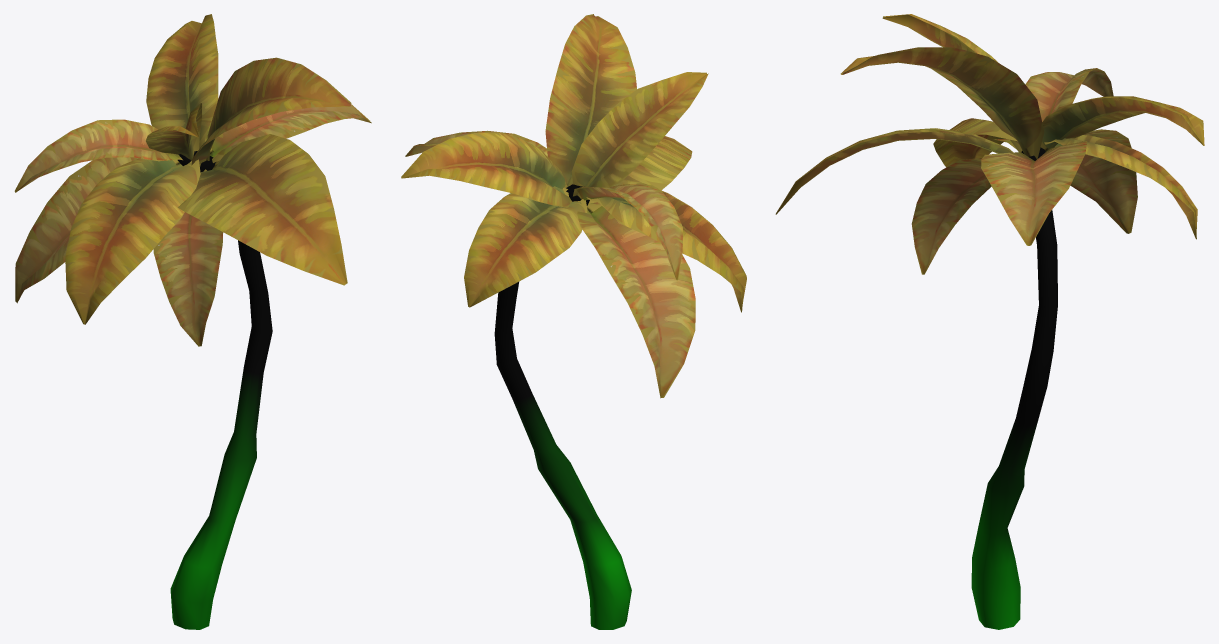
Rendered from P_DesertPalmSapling02.obj.
The picture shows the model from 3 angles, left to right: view 1: azimuth 30°, elevation 25°; view 2: azimuth 150°, elevation 25°; view 3: azimuth 270°, elevation 25°; orthographic projection. The views are drawn at different scales.
Size of the model in its own units: 3.34 by 5.6 by 3.56.
